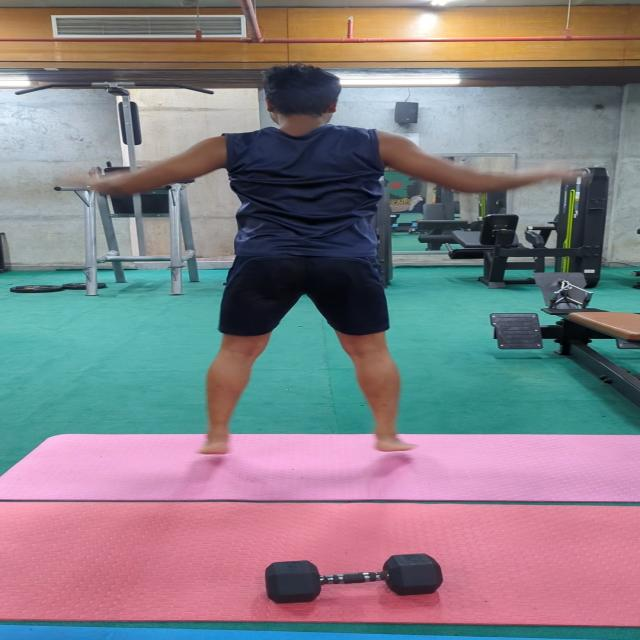Normal_JumpingJacks: (75, 93, 563, 469)
